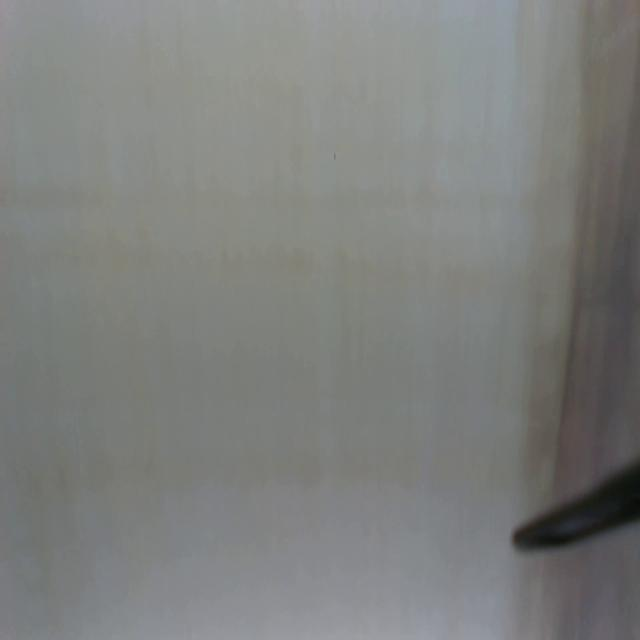color bleeding: (525, 0, 640, 466), (519, 554, 640, 640)
hole: (333, 146, 337, 164)
